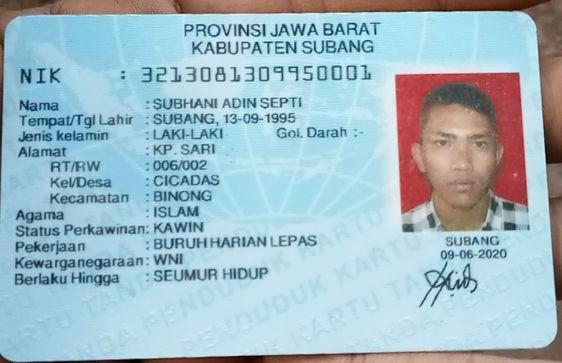ID-card: (4, 11, 554, 355)
